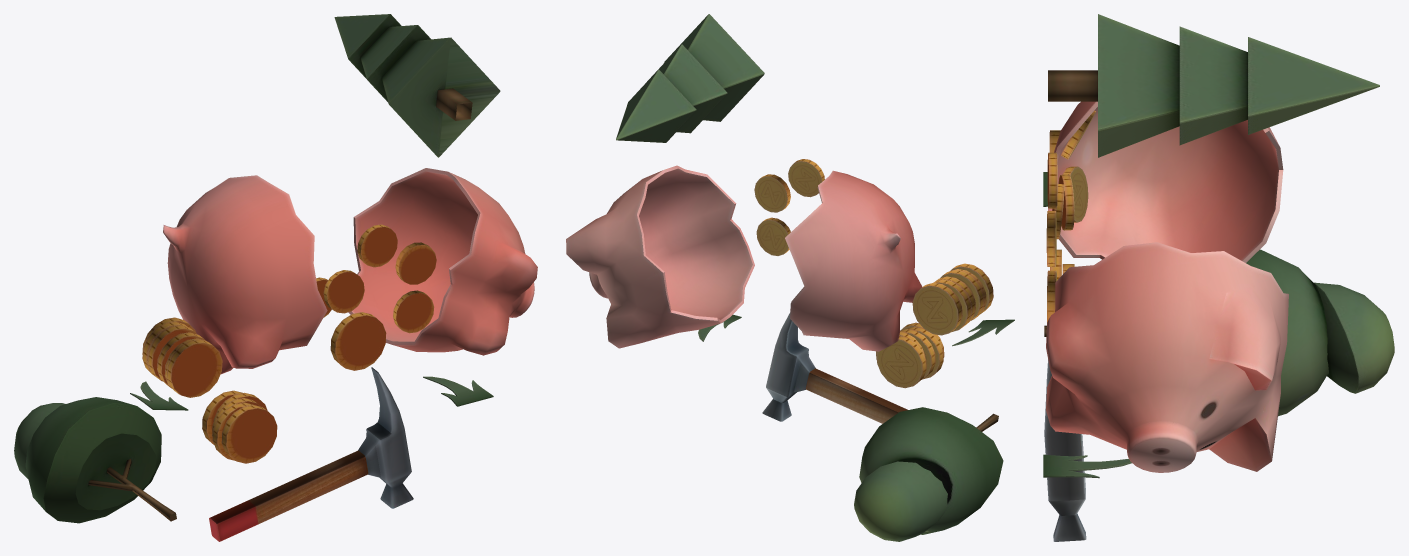
Rendered from piggy.glb.
3 views of the same model, side by side, from view 1: azimuth 30°, elevation 25°; view 2: azimuth 150°, elevation 25°; view 3: azimuth 270°, elevation 25° (orthographic). The views are drawn at different scales.
Parts seen in each view (by area): view 1: DepenseImportante, Arbres_DepenseImportante; view 2: DepenseImportante, Arbres_DepenseImportante; view 3: DepenseImportante, Arbres_DepenseImportante.
Boxes of the visible parts, bbox=[...] form: DepenseImportante: bbox=[142, 168, 537, 541]; Arbres_DepenseImportante: bbox=[14, 14, 500, 523]; DepenseImportante: bbox=[566, 159, 993, 423]; Arbres_DepenseImportante: bbox=[616, 14, 1014, 541]; DepenseImportante: bbox=[1044, 101, 1288, 541]; Arbres_DepenseImportante: bbox=[1043, 14, 1394, 478].
Size of the model in its own units: 1.24 by 1.15 by 0.6271.
2 materials, 2 textured.
